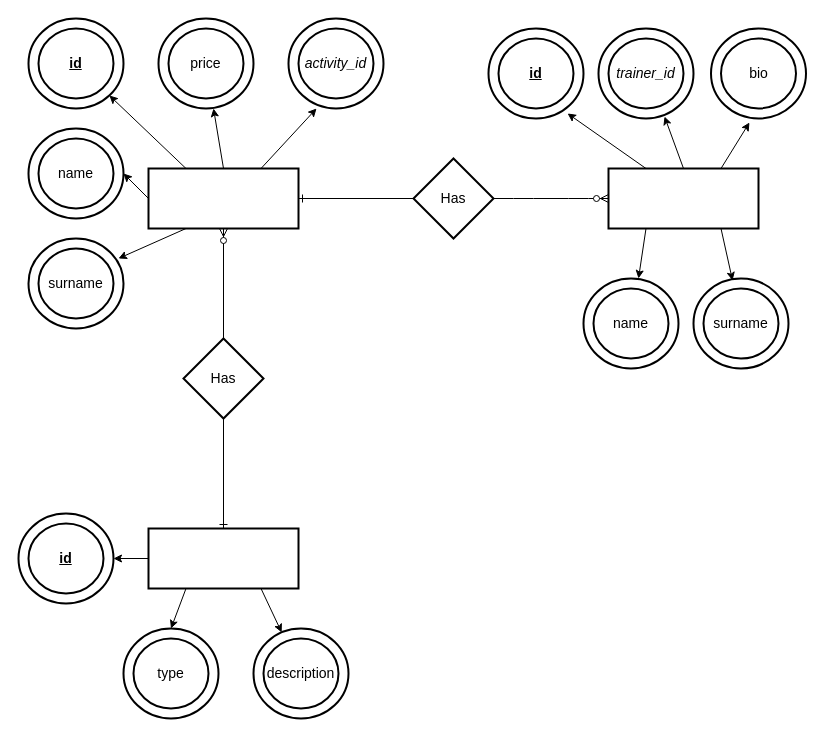
The diagram is 824 pixels wide and 736 high, and some of its shapes have lost their labels. The centre of each missing label's shape, as x and y in pixels:
activity: (x=223, y=558)
client: (x=683, y=198)
trainer: (x=223, y=198)
